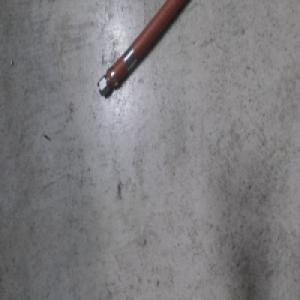Hose: (96, 0, 191, 99)
